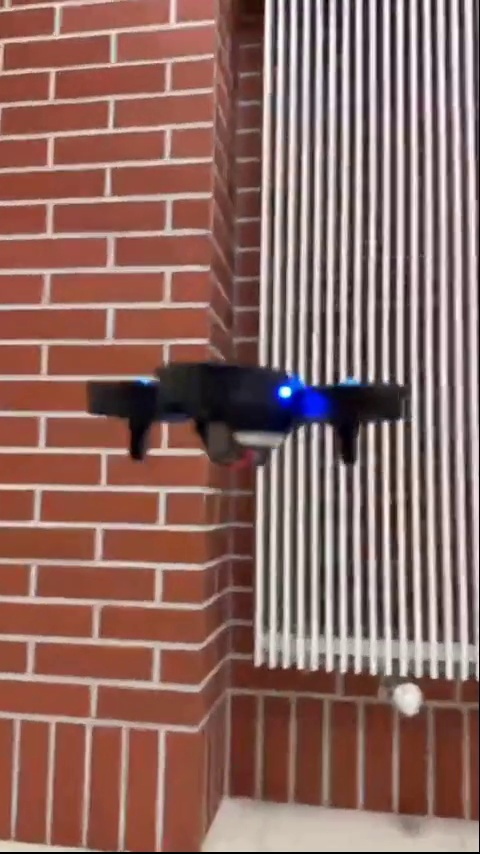drone: (96, 355, 406, 481)
